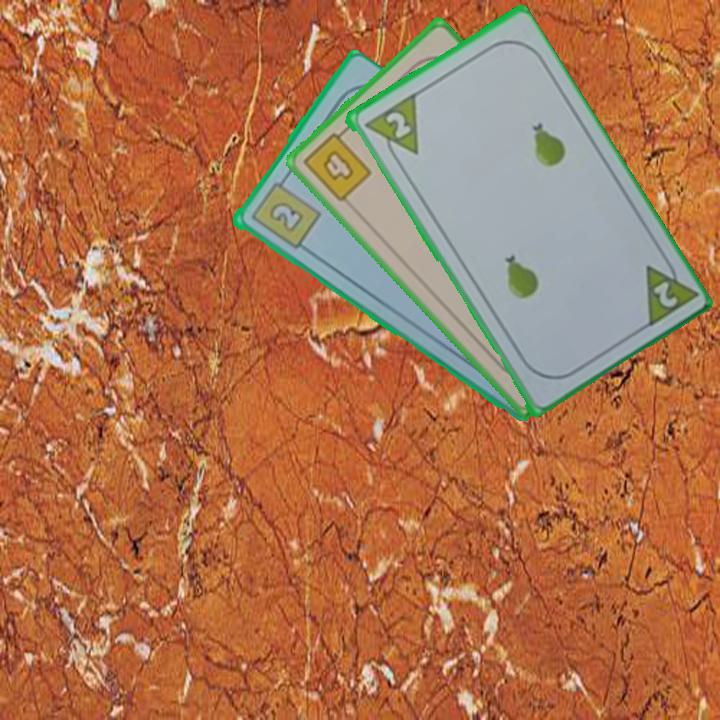2b: (246, 172, 323, 252)
2p: (640, 250, 698, 331), (381, 107, 414, 142)
4b: (299, 123, 375, 205)
